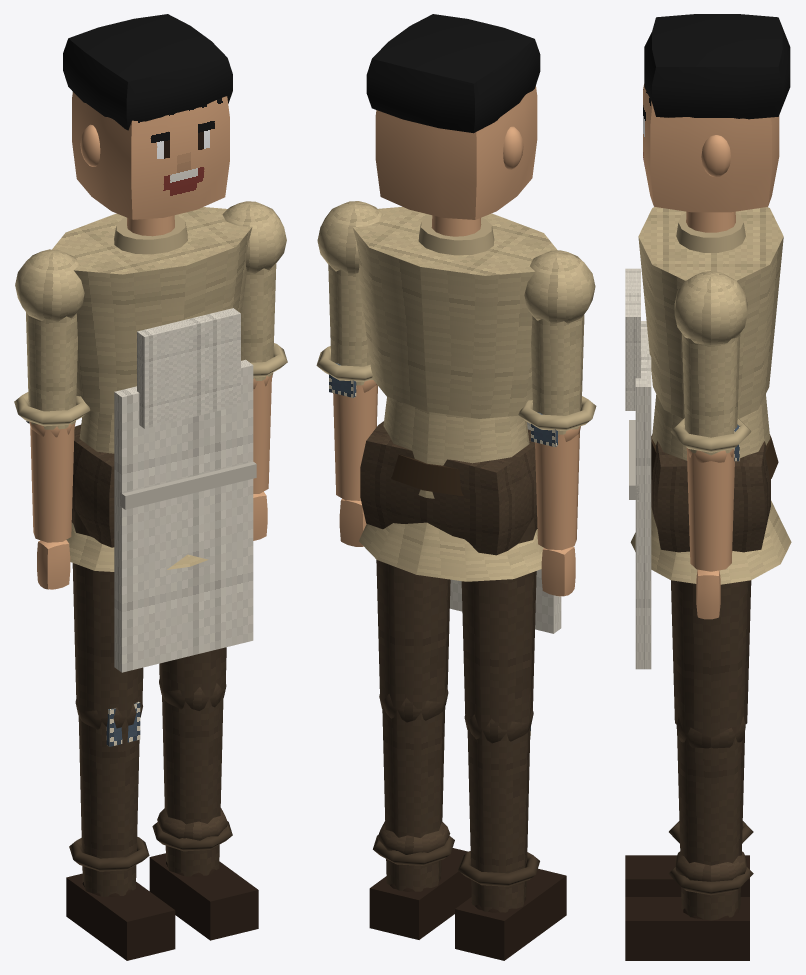
Rendered from carnicero.glb.
3 renders of one model, left to right at view 1: azimuth 30°, elevation 25°; view 2: azimuth 150°, elevation 25°; view 3: azimuth 270°, elevation 25°, orthographic. The views are drawn at different scales.
Visible parts, largest first — view 1: carnicero, object 31, object 34, object 3, object 10, object 1, object 7, object 14, object 17, object 19, object 16, object 24 (+15 smaller); view 2: carnicero, object 34, object 31, object 1, object 3, object 8, object 10, object 7, object 14, object 17, object 19, object 16 (+14 smaller); view 3: carnicero, object 34, object 31, object 8, object 10, object 14, object 24, object 26, object 23, object 7, object 12, object 29 (+5 smaller).
Boxes of the visible parts, x1,y1,x2,y2 form: carnicero: [52, 207, 256, 672]; object 31: [72, 92, 229, 219]; object 34: [63, 14, 232, 130]; object 3: [78, 716, 139, 896]; object 10: [162, 692, 223, 876]; object 1: [72, 510, 143, 718]; object 7: [66, 873, 175, 960]; object 14: [149, 853, 258, 940]; object 17: [26, 312, 77, 429]; object 19: [30, 423, 74, 542]; object 16: [15, 249, 84, 321]; object 24: [241, 263, 276, 380]; carnicero: [352, 206, 561, 633]; object 34: [366, 14, 540, 133]; object 31: [375, 86, 537, 219]; object 1: [461, 517, 536, 729]; object 3: [467, 724, 530, 912]; object 8: [376, 560, 450, 708]; object 10: [382, 703, 445, 891]; object 7: [455, 868, 566, 960]; object 14: [369, 848, 471, 939]; object 17: [531, 314, 584, 434]; object 19: [535, 432, 579, 550]; object 16: [524, 250, 595, 324]; carnicero: [625, 207, 791, 669]; object 34: [644, 14, 790, 119]; object 31: [643, 84, 779, 212]; object 8: [671, 580, 751, 737]; object 10: [677, 730, 744, 920]; object 14: [625, 897, 749, 960]; object 24: [682, 333, 740, 455]; object 26: [686, 448, 734, 571]; object 23: [674, 271, 747, 344]; object 7: [625, 855, 749, 896]; object 12: [675, 851, 746, 881]; object 29: [670, 418, 751, 452].
Size of the model in its own units: 0.6299 by 1.97 by 0.3325.
14 materials, 5 textured.
